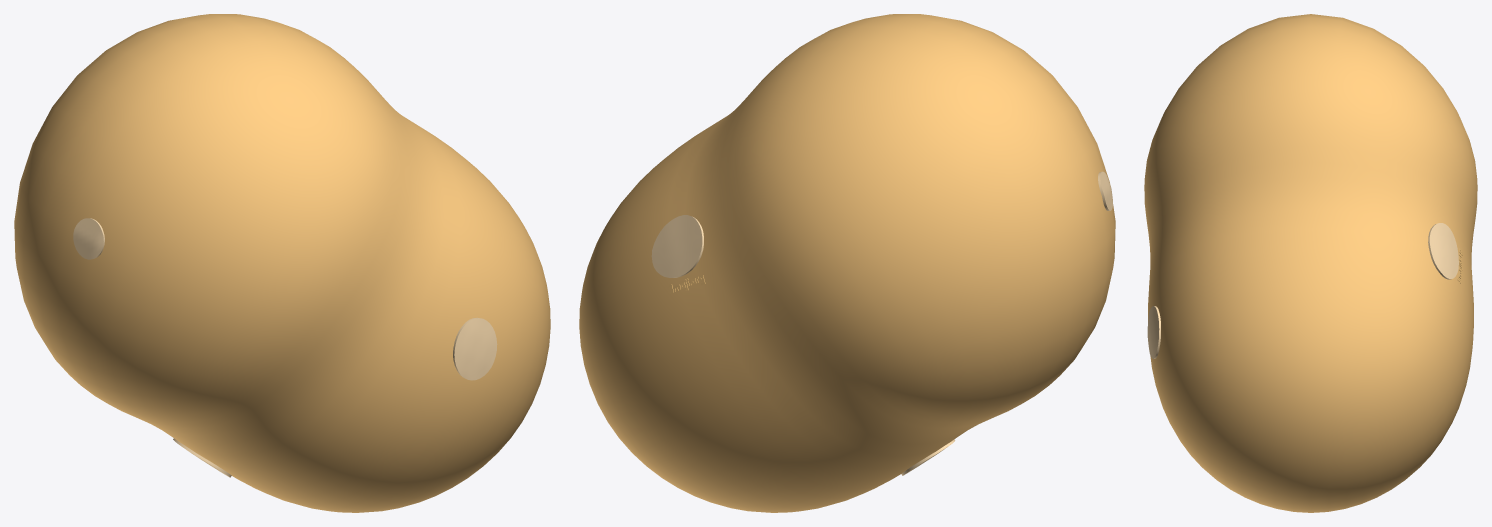
Rendered from potato.fbx.
3 renders of one model, left to right at view 1: azimuth 30°, elevation 25°; view 2: azimuth 150°, elevation 25°; view 3: azimuth 270°, elevation 25°, orthographic. The views are drawn at different scales.
Parts seen in each view (by area): view 1: Cube.343; view 2: Cube.343; view 3: Cube.343.
Part boxes in pixels (<box>): Cube.343: <box>14,14,550,512</box>; Cube.343: <box>579,14,1115,512</box>; Cube.343: <box>1144,14,1477,512</box>.
Size of the model in its own units: 222 by 216 by 160.
Materials: 1 (1 with a texture image).
